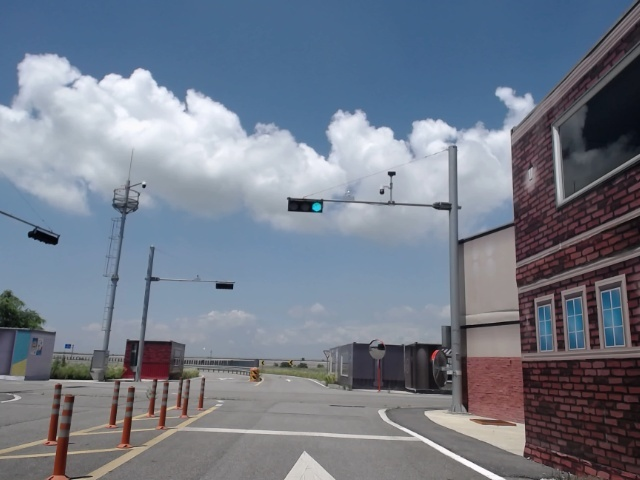green_3: (285, 195, 324, 215)
